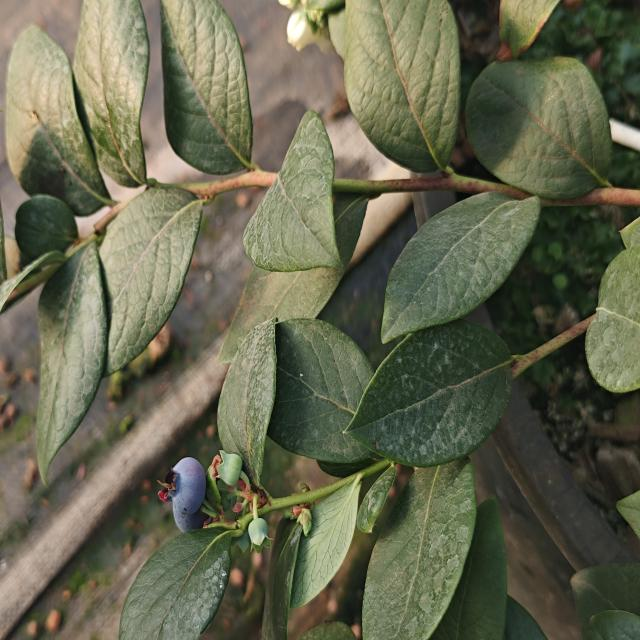ripe: (155, 454, 208, 540)
